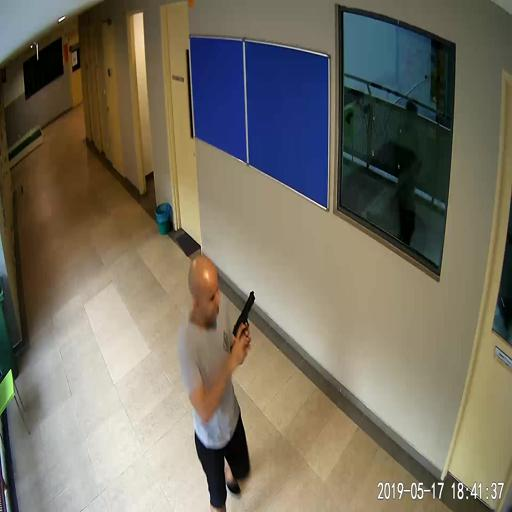pistol: (233, 290, 254, 352)
